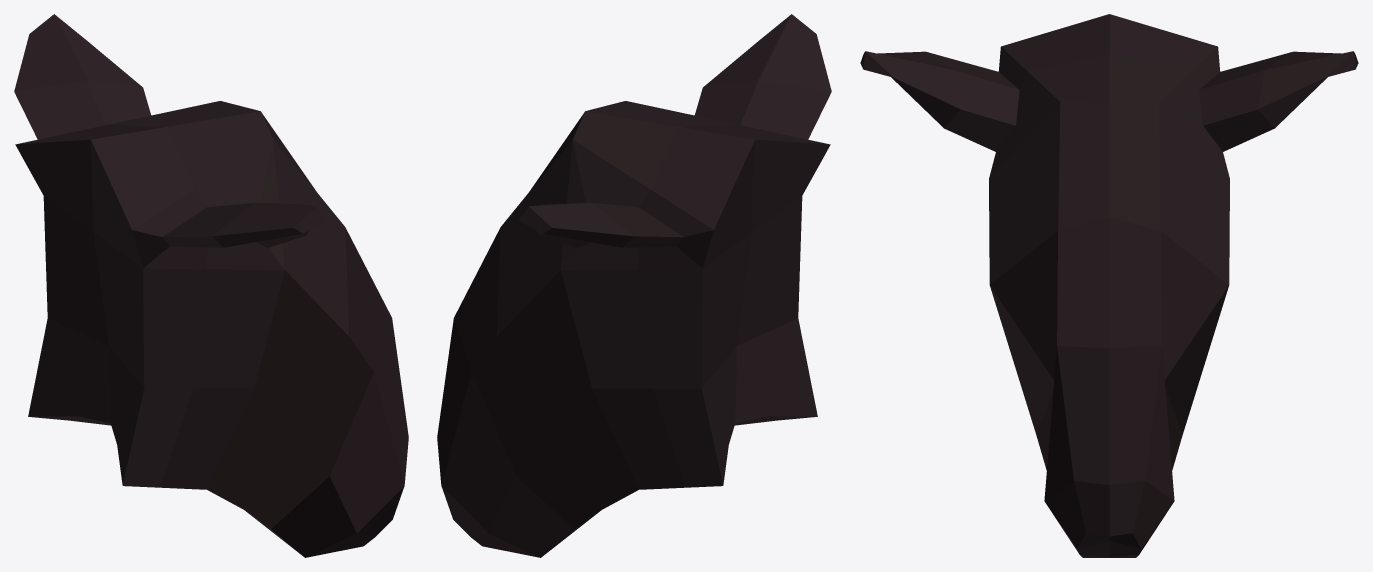
File: GodHead.glb
3 views of the same model, side by side, from view 1: azimuth 30°, elevation 25°; view 2: azimuth 150°, elevation 25°; view 3: azimuth 270°, elevation 25° (orthographic). The views are drawn at different scales.
Parts seen in each view (by area): view 1: Plane.002; view 2: Plane.002; view 3: Plane.002.
Part boxes in pixels (box(x1,y1,x2,y2)): Plane.002: box(14, 14, 408, 557); Plane.002: box(437, 14, 831, 557); Plane.002: box(860, 14, 1358, 557).
Bounding box in the file's own units: 3.93 × 5.43 × 5.53.
Materials: 1 (1 with a texture image).
